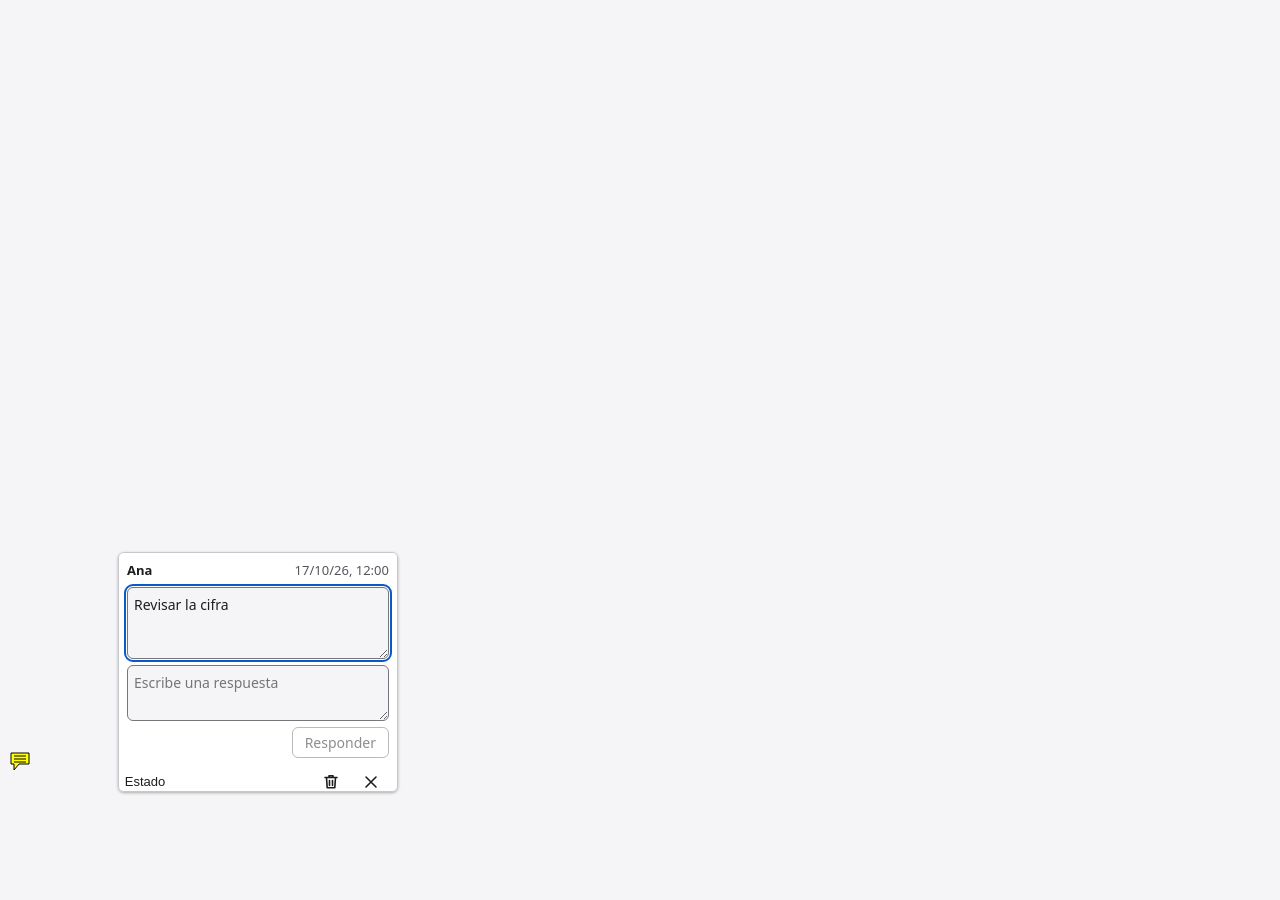
Scenario: Ventana de comentario · respuestas y estados (PDF-109) › Ctrl+Intro en el campo responde; Intro sola inserta un salto de línea y no responde
In the text box labelled "Escribe una respuesta": (258, 692) x1=127 y1=664 x2=389 y2=720, type "Con atajo"
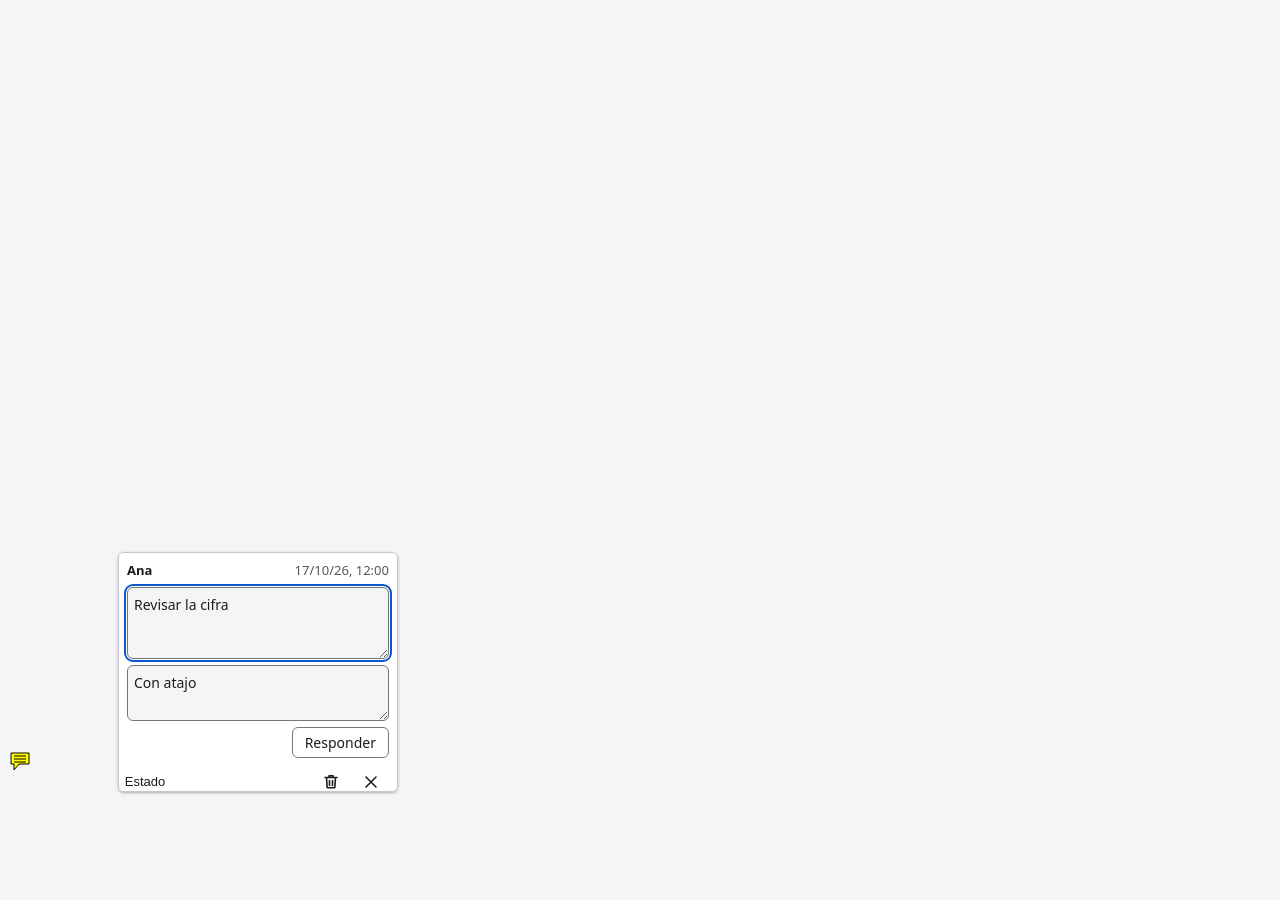
Press Enter in the text box named "Escribe una respuesta", box x1=127 y1=664 x2=389 y2=720
Press Enter in the text box named "Escribe una respuesta", box x1=127 y1=664 x2=389 y2=720
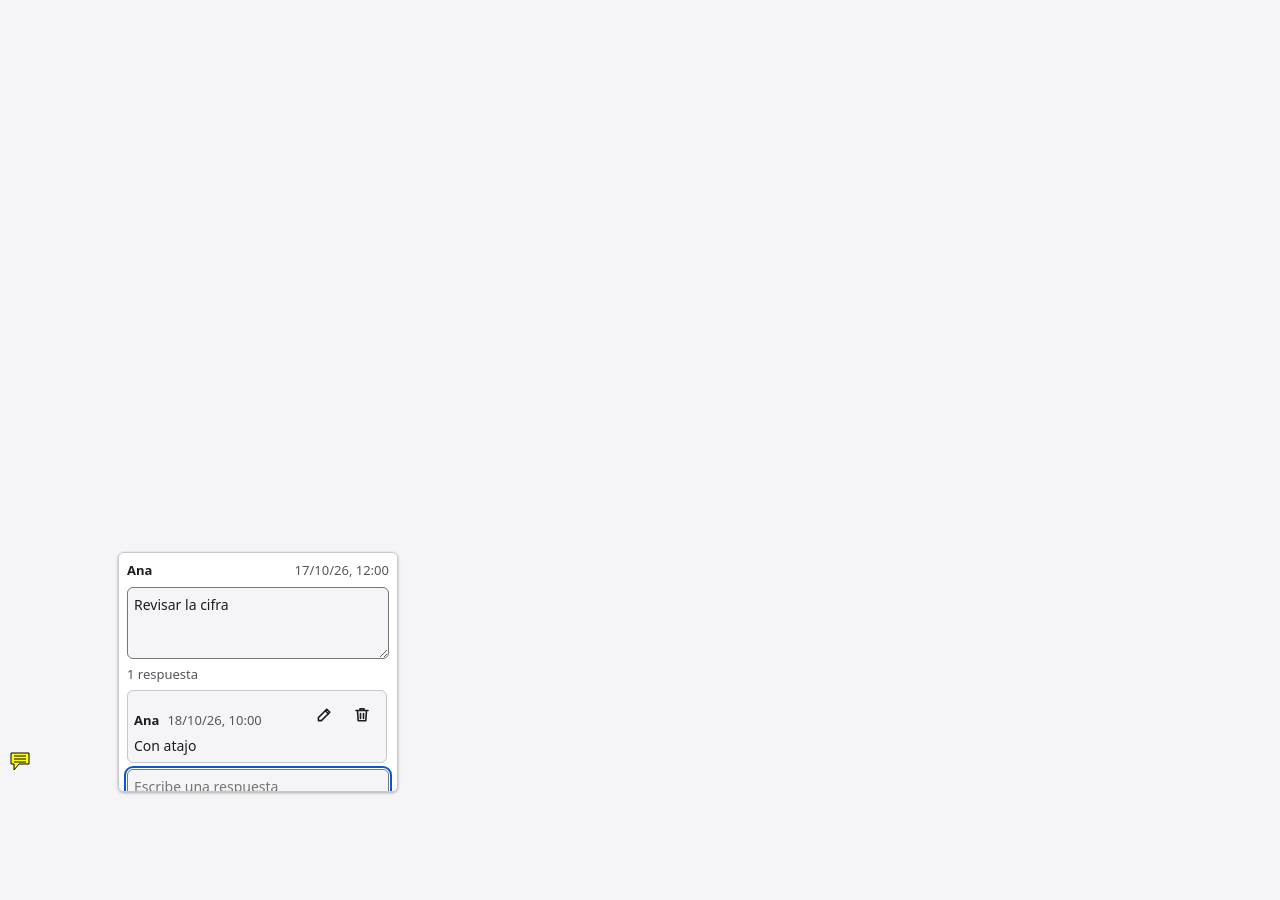
Now the text "Con atajo" is shown, box x1=134 y1=736 x2=196 y2=755
